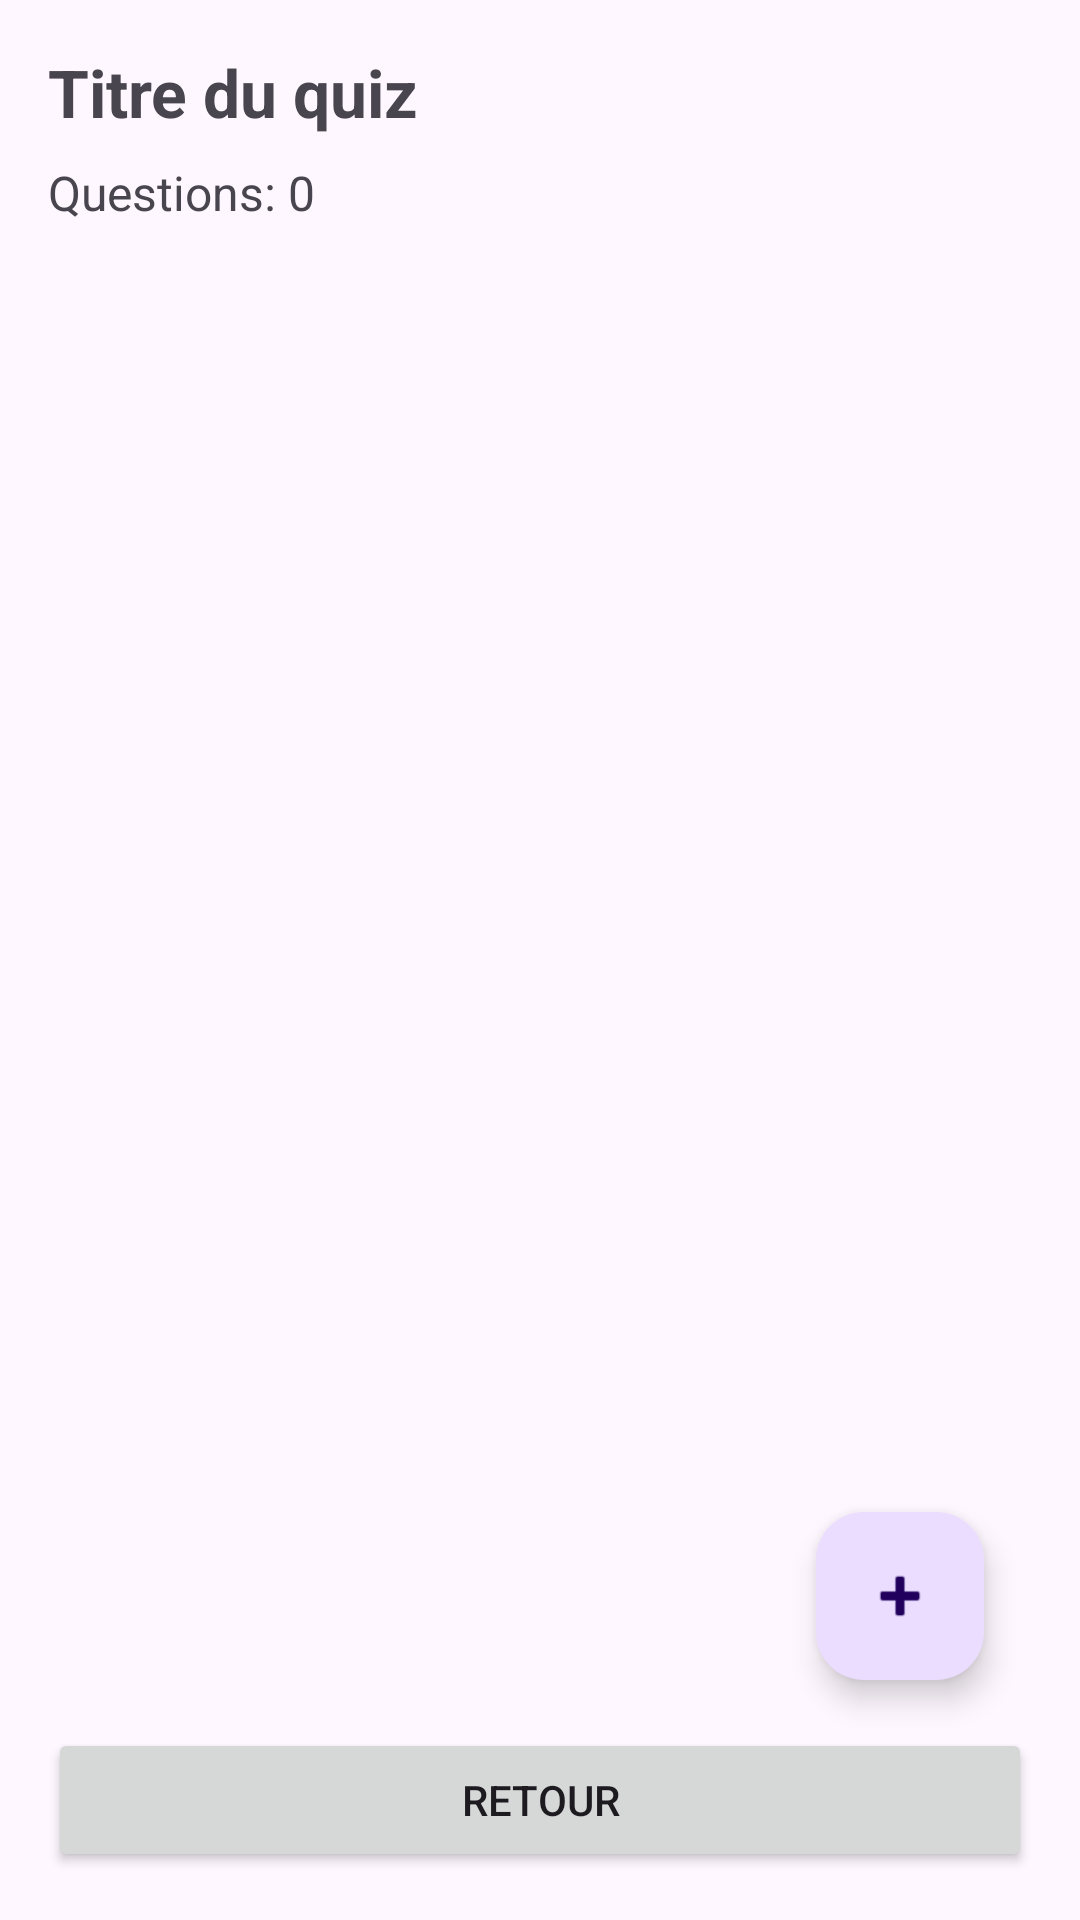

Locate icon controls on the screen. Image size 1080 × 1920, boxes as (left=x1, top=y1, right=x2, bottom=y2).
Ajouter une question: (left=816, top=1512, right=984, bottom=1680)
